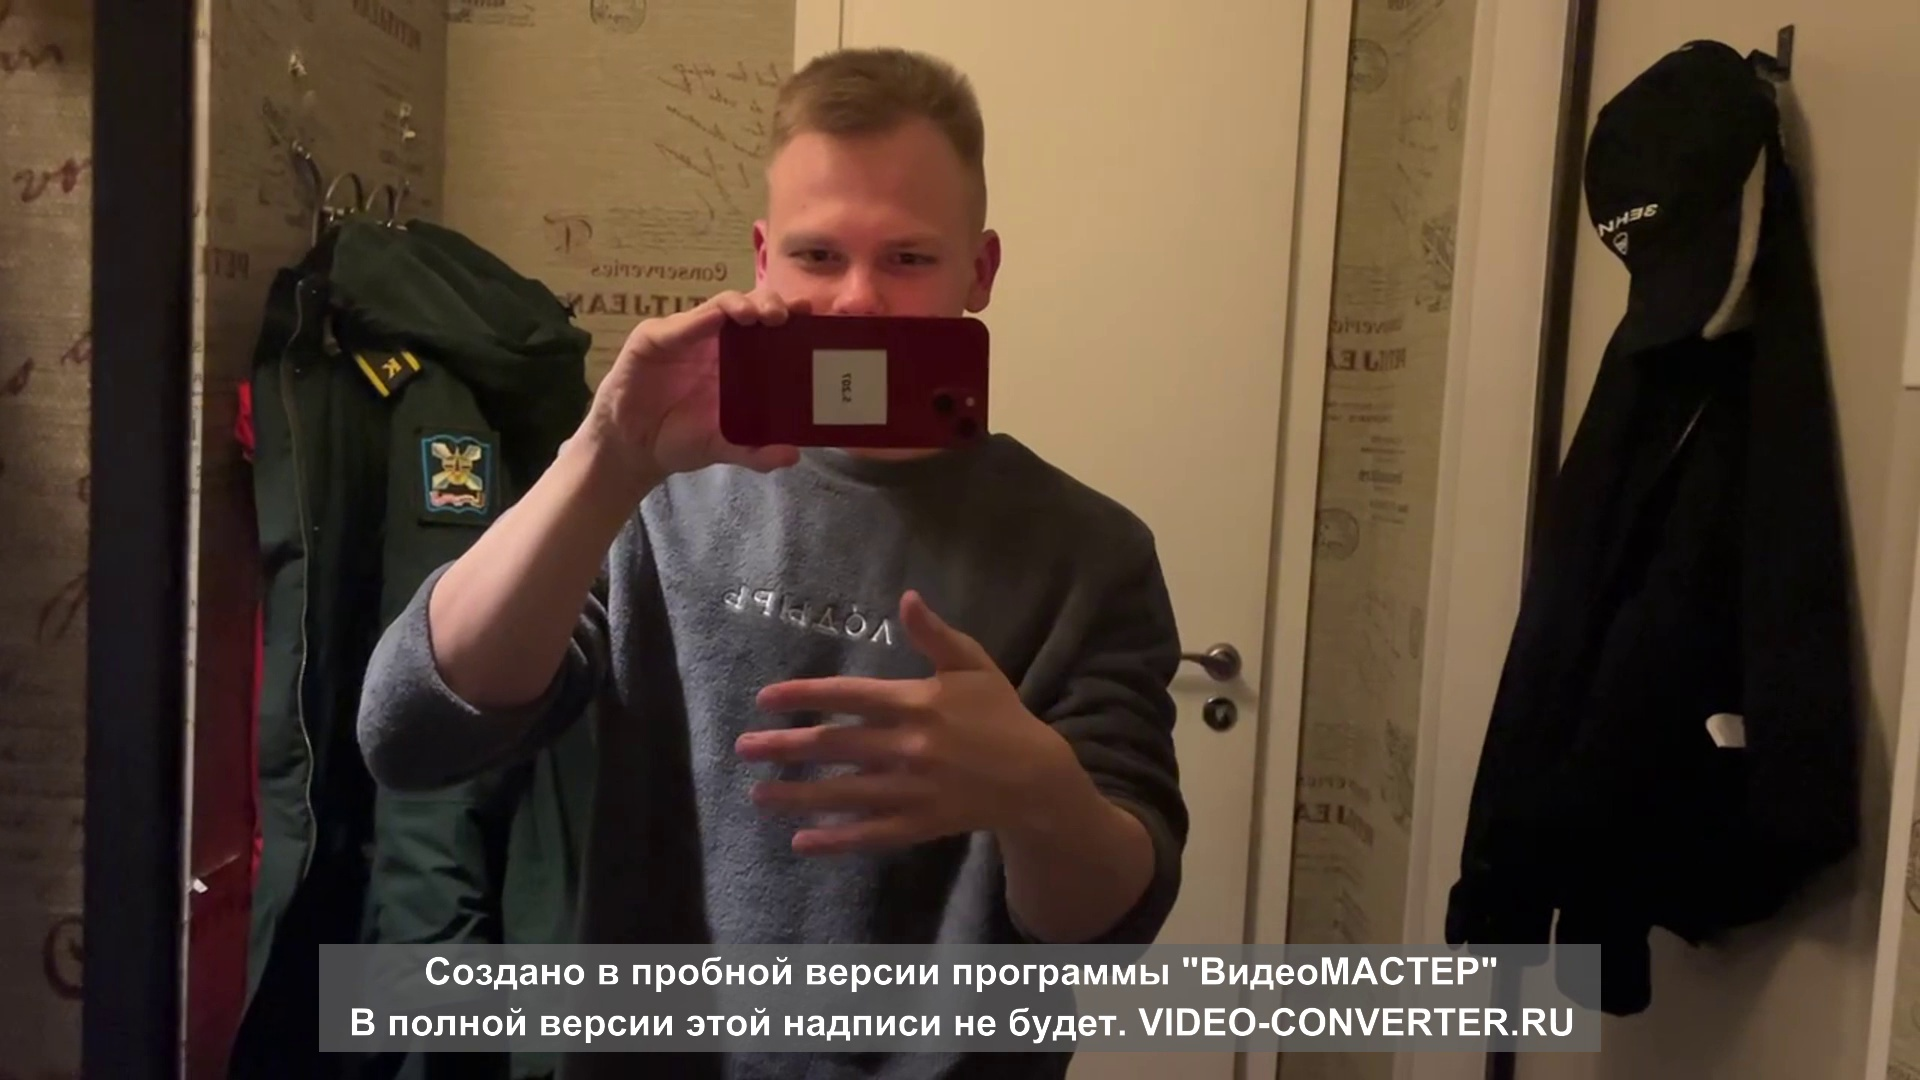Кисть: (737, 591, 1055, 852)
